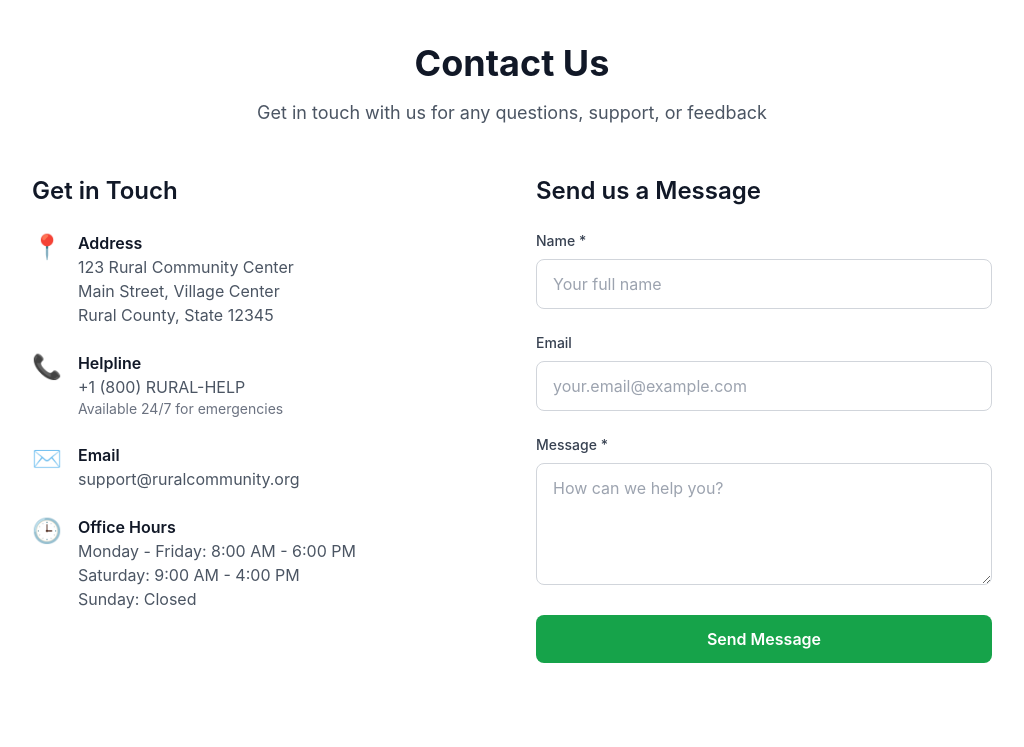
Test case: ContactSection › Error Handling › handles generic network error
Type "John Doe" into the field labelled "Name *".
click(764, 284); type("John Doe")  # box top-left (536, 259), bottom-right (992, 309)
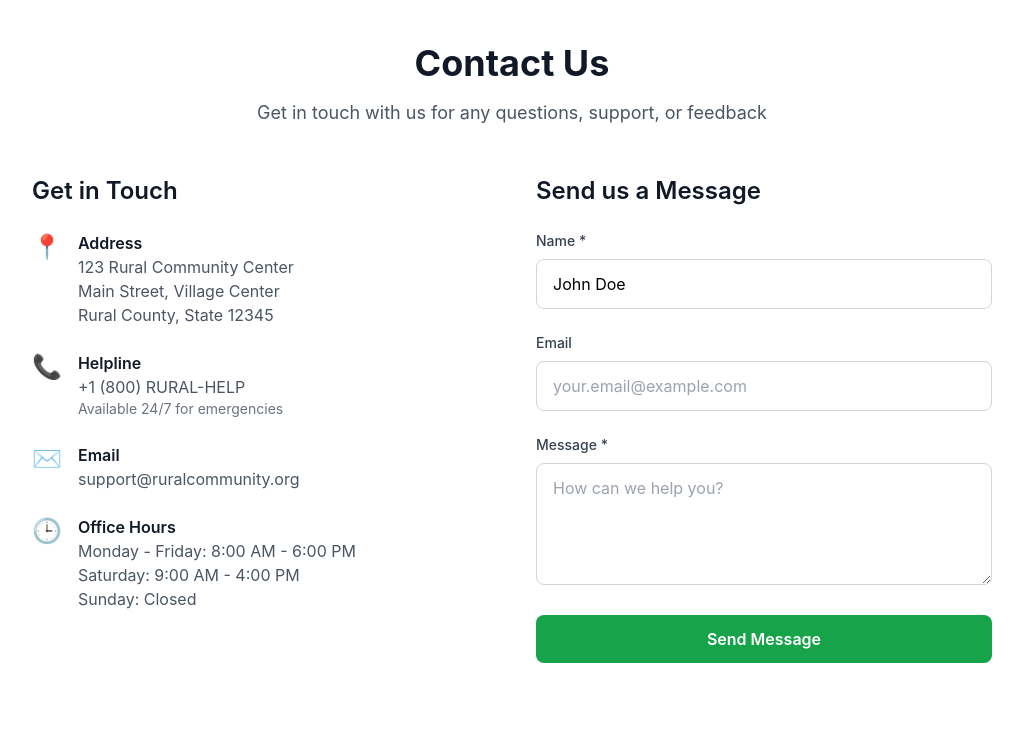
Type "This is a test message with enough characters." into the text box labelled "Message *".
click(764, 524); type("This is a test message with enough characters.")  # box top-left (536, 463), bottom-right (992, 585)
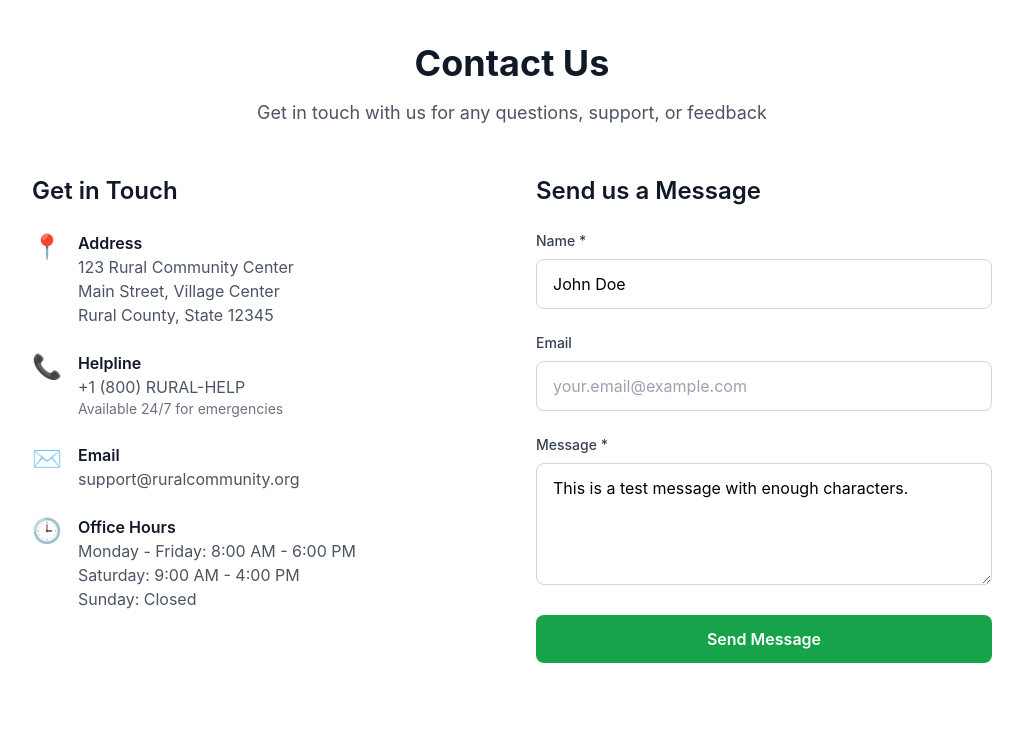
Click the button "Send Message".
click(764, 639)  # box top-left (536, 615), bottom-right (992, 663)
(page scrolled)
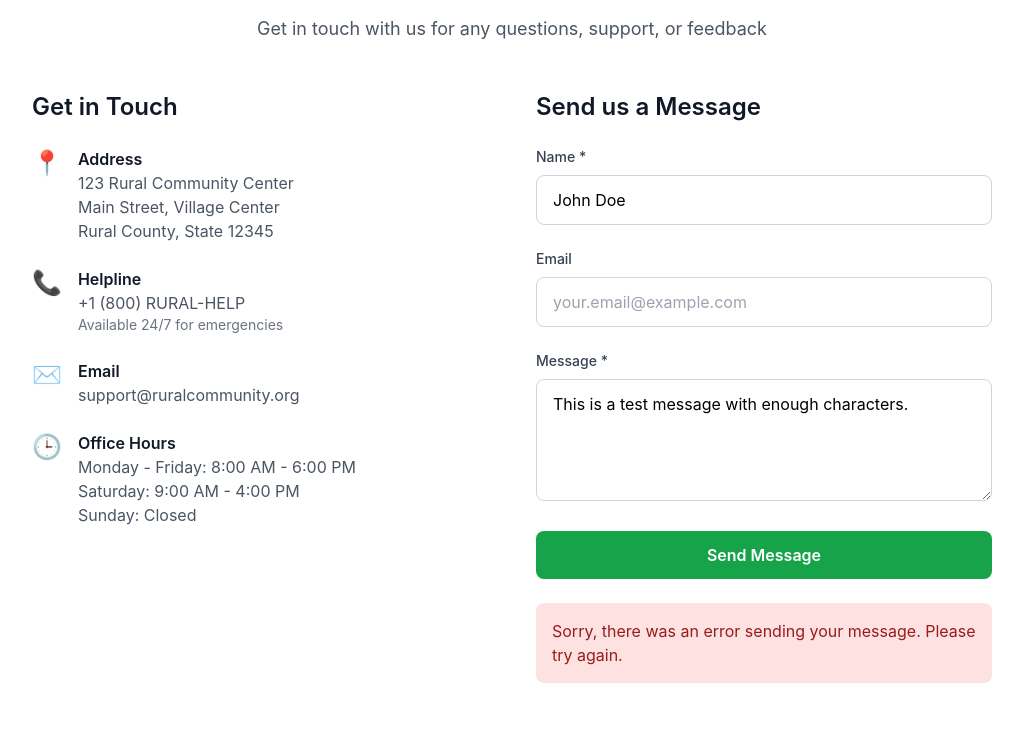
Now the text "Sorry, there was an error sending your message. Please try again." is shown, box top-left (536, 603), bottom-right (992, 683)
